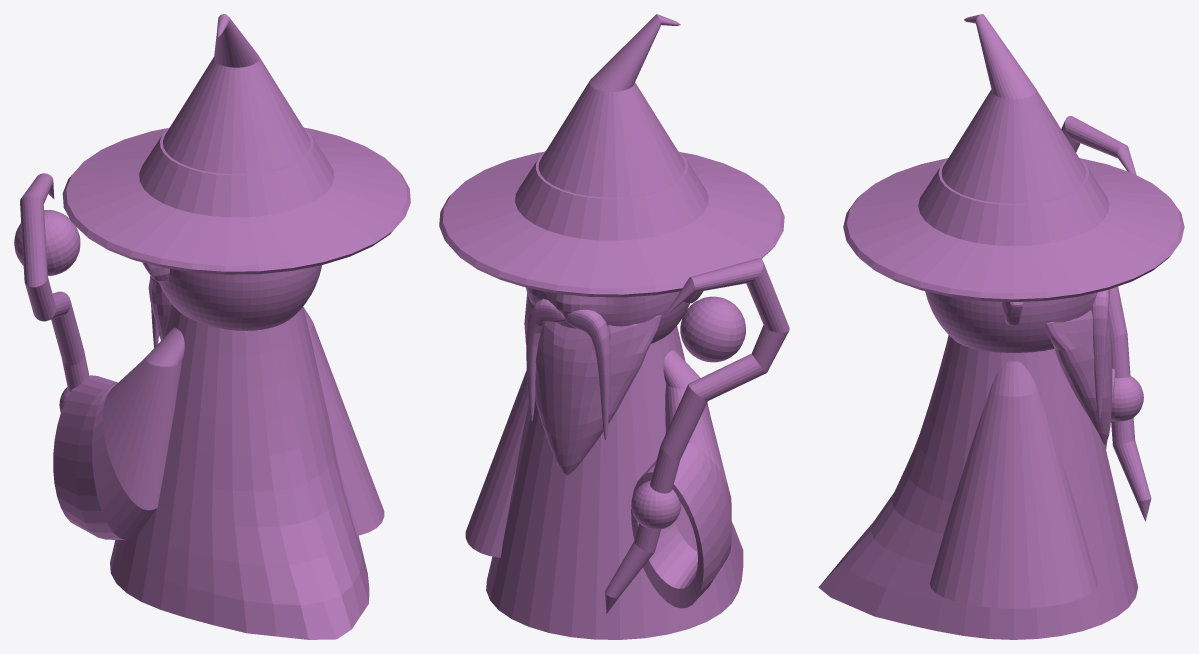
File: Mage.fbx
The picture shows the model from 3 angles, left to right: view 1: azimuth 30°, elevation 25°; view 2: azimuth 150°, elevation 25°; view 3: azimuth 270°, elevation 25°; orthographic projection. The views are drawn at different scales.
Visible parts, largest first — view 1: polySurface2, polySurface3, polySurface26, polySurface11, polySurface1, polySurface9, polySurface7, polySurface8, polySurface4; view 2: polySurface3, polySurface2, polySurface26, polySurface4, polySurface9, polySurface11, polySurface7, polySurface1, polySurface8, polySurface5, polySurface13, polySurface6; view 3: polySurface3, polySurface2, polySurface7, polySurface11, polySurface1, polySurface9, polySurface4, polySurface6, polySurface13.
Part boxes in pixels (box(x1,y1,x2,y2)): polySurface2: box(110, 303, 369, 639); polySurface3: box(62, 14, 410, 274); polySurface26: box(53, 327, 184, 540); polySurface11: box(139, 127, 334, 217); polySurface1: box(158, 265, 321, 330); polySurface9: box(20, 173, 89, 391); polySurface7: box(303, 307, 384, 535); polySurface8: box(14, 210, 80, 275); polySurface4: box(148, 275, 170, 340); polySurface3: box(439, 14, 784, 297); polySurface2: box(486, 326, 743, 639); polySurface26: box(631, 350, 731, 608); polySurface4: box(524, 293, 661, 475); polySurface9: box(605, 258, 789, 613); polySurface11: box(515, 151, 708, 240); polySurface7: box(465, 370, 528, 557); polySurface1: box(526, 287, 689, 343); polySurface8: box(680, 296, 745, 362); polySurface5: box(565, 309, 610, 439); polySurface13: box(631, 480, 680, 529); polySurface6: box(526, 299, 565, 421); polySurface3: box(843, 14, 1184, 302); polySurface2: box(818, 335, 1138, 639); polySurface7: box(929, 361, 1097, 608); polySurface11: box(918, 158, 1109, 246); polySurface1: box(925, 291, 1097, 352); polySurface9: box(1061, 116, 1151, 521); polySurface4: box(1045, 310, 1112, 444); polySurface6: box(1091, 289, 1109, 420); polySurface13: box(1111, 376, 1143, 421).
Size of the model in its own units: 295 by 467 by 277.
